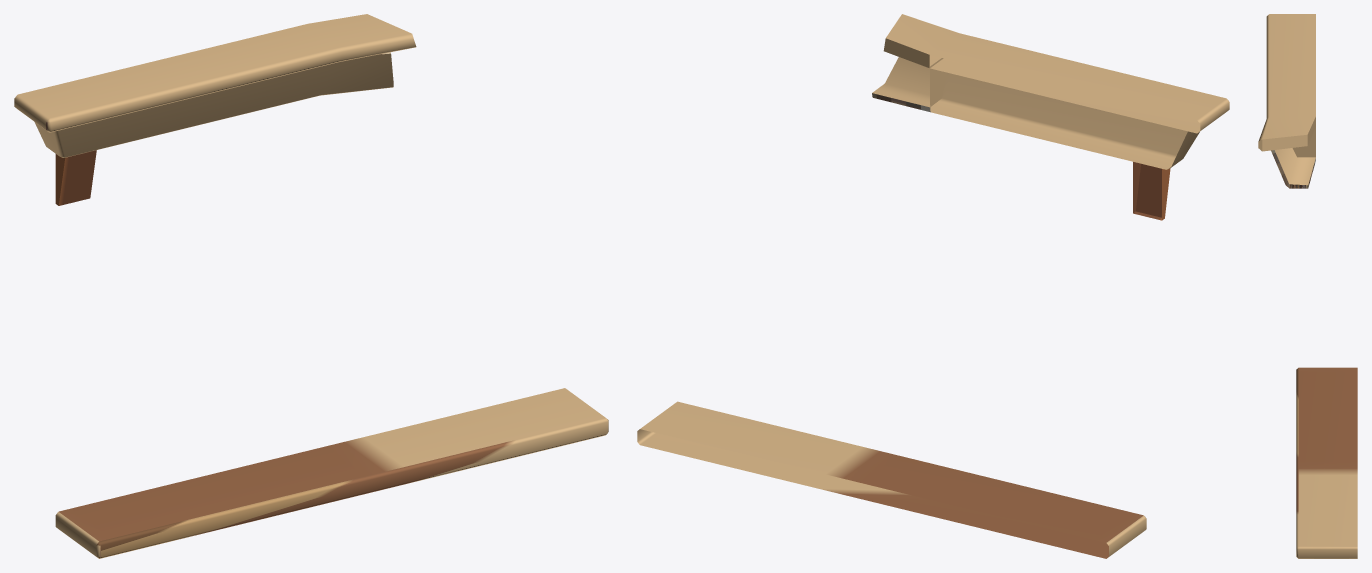
The model's file is DBK_WinDouble_Trim_B_90.fbx.
The picture shows the model from 3 angles, left to right: view 1: azimuth 30°, elevation 25°; view 2: azimuth 150°, elevation 25°; view 3: azimuth 270°, elevation 25°; orthographic projection. The views are drawn at different scales.
Parts seen in each view (by area): view 1: DBK_WinDouble_Trim_B_90; view 2: DBK_WinDouble_Trim_B_90; view 3: DBK_WinDouble_Trim_B_90.
Part boxes in pixels (x1=…): DBK_WinDouble_Trim_B_90: x1=14, y1=14, x2=608, y2=558; DBK_WinDouble_Trim_B_90: x1=637, y1=14, x2=1229, y2=558; DBK_WinDouble_Trim_B_90: x1=1258, y1=14, x2=1357, y2=558.
Bounding box in the file's own units: 186 × 145 × 37.97.
